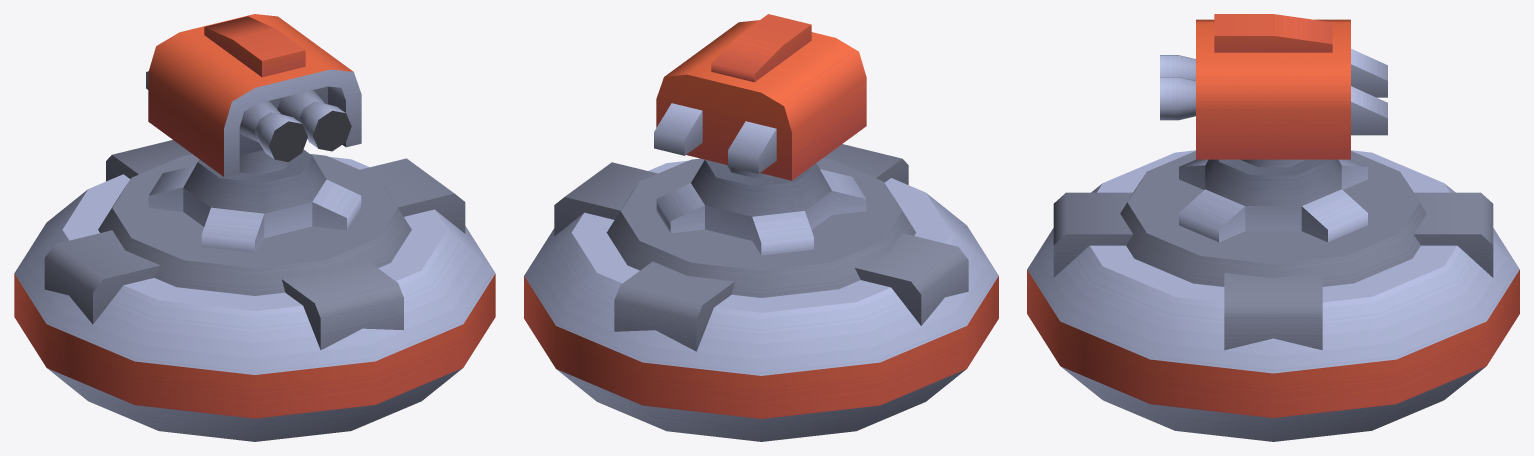
File: tower-defense-kit--enemy-ufo-a-weapon.glb
3 views of the same model, side by side, from view 1: azimuth 30°, elevation 25°; view 2: azimuth 150°, elevation 25°; view 3: azimuth 270°, elevation 25° (orthographic). The views are drawn at different scales.
Visible parts, largest first — view 1: enemy-ufo-a-weapon, barrel; view 2: enemy-ufo-a-weapon, barrel; view 3: enemy-ufo-a-weapon, barrel.
Boxes of the visible parts, x1,y1,x2,y2 form: enemy-ufo-a-weapon: (14,140,495,441); barrel: (146,14,361,176); enemy-ufo-a-weapon: (524,144,998,441); barrel: (654,14,866,180); enemy-ufo-a-weapon: (1027,150,1519,441); barrel: (1160,14,1387,159).
Size of the model in its own units: 1 by 0.7475 by 1.
1 material, 1 textured.
